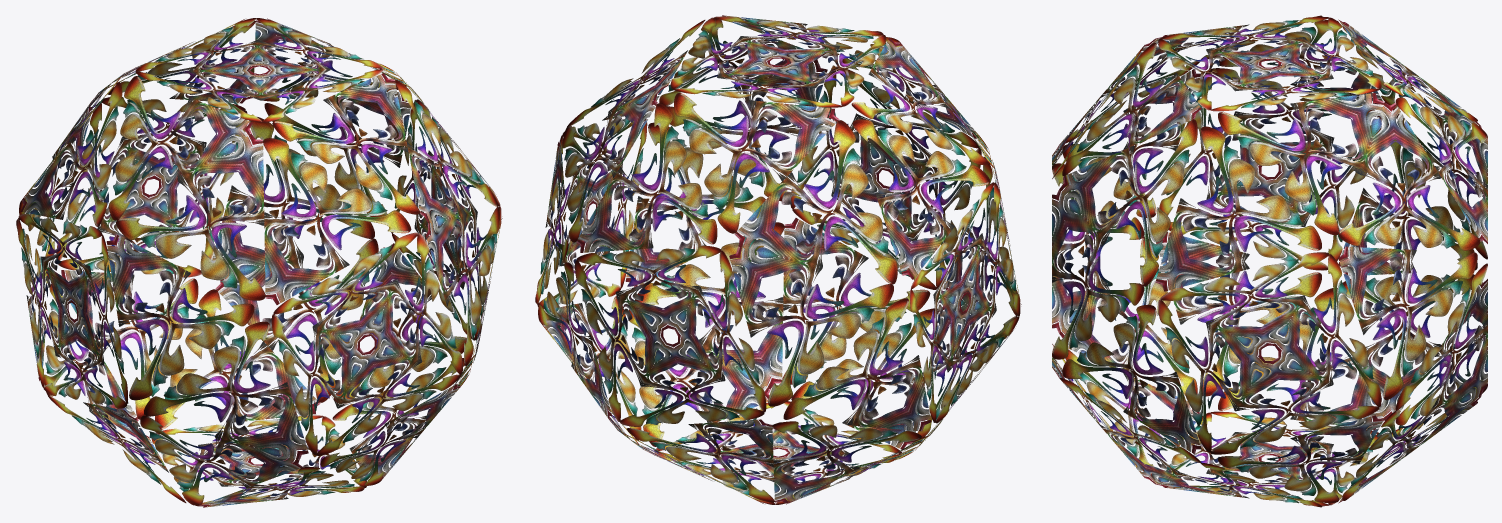
File: SnubCube12.gltf
The picture shows the model from 3 angles, left to right: view 1: azimuth 30°, elevation 25°; view 2: azimuth 150°, elevation 25°; view 3: azimuth 270°, elevation 25°; orthographic projection.
Visible parts, largest first — view 1: SnubCube12; view 2: SnubCube12; view 3: SnubCube12.
Part boxes in pixels (bbox=[...]): SnubCube12: bbox=[16, 18, 502, 507]; SnubCube12: bbox=[535, 15, 1021, 504]; SnubCube12: bbox=[1052, 15, 1487, 507].
Bounding box in the file's own units: 2.29 × 2.29 × 2.29.
Materials: 1 (1 with a texture image).
